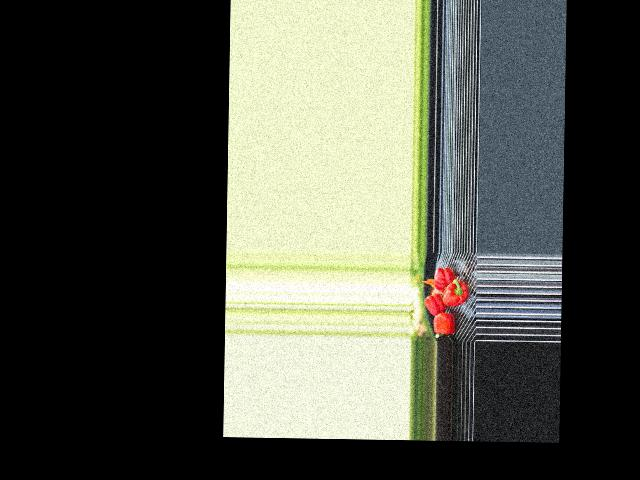bell_pepper: (432, 266, 454, 292)
